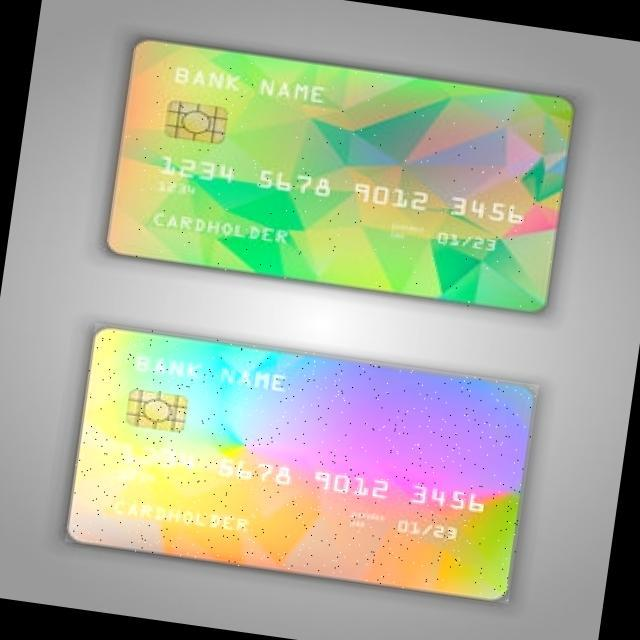payment_card: (65, 323, 540, 603), (104, 37, 576, 313)
